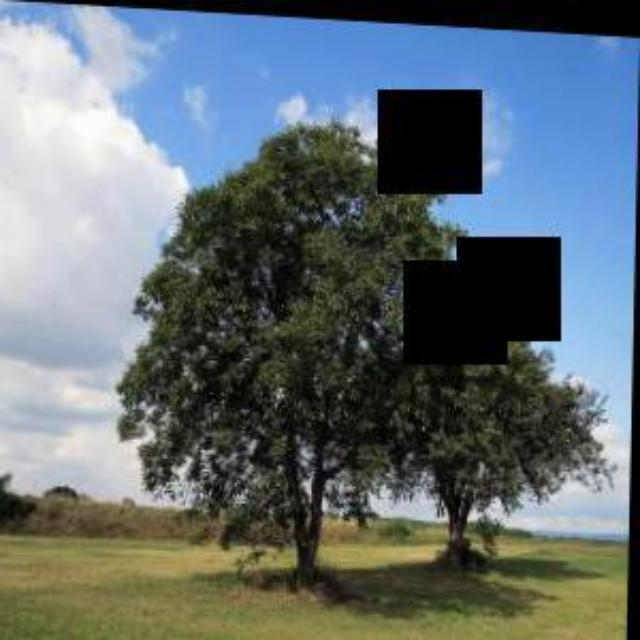tree: (113, 96, 484, 600), (421, 298, 625, 576)
